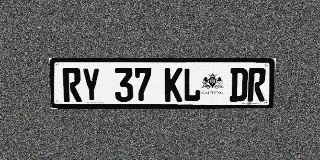3: (115, 68, 133, 102)
7: (133, 68, 152, 102)
D: (229, 68, 248, 101)
K: (165, 68, 183, 102)
L: (183, 68, 201, 102)
R: (62, 68, 82, 102), (247, 68, 266, 101)
Y: (81, 68, 101, 102)
